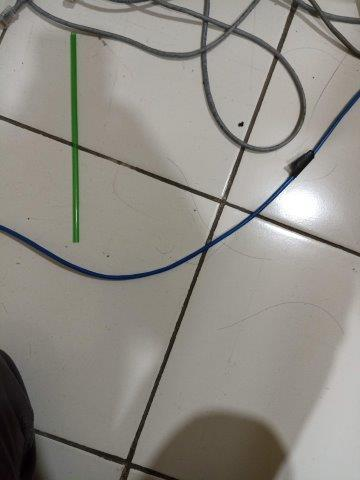sedotan: (70, 33, 78, 243)
